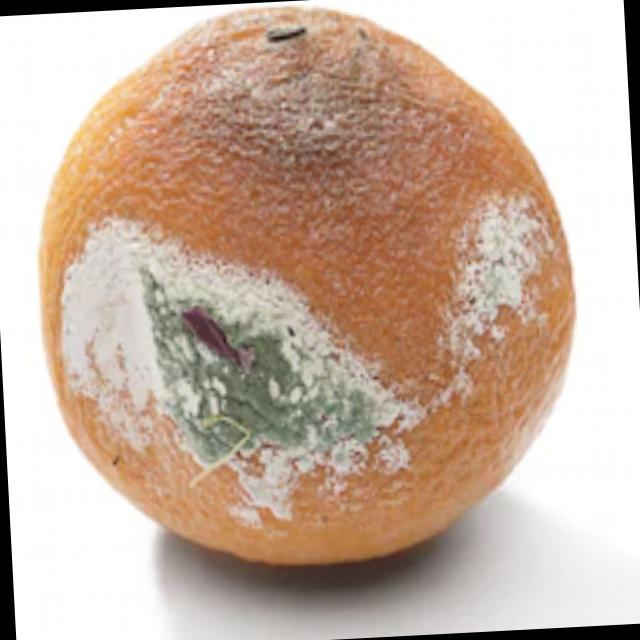rotten-orange: (25, 0, 586, 593)
